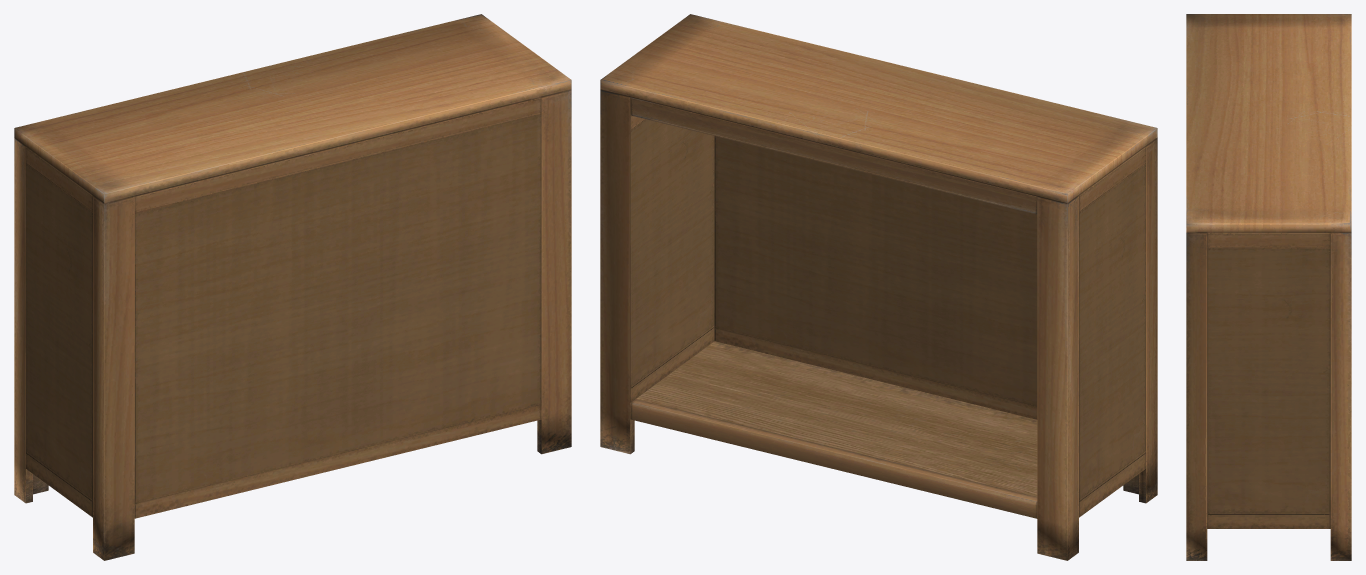
The model's file is chest_of_drawers_medium.dae.
3 views of the same model, side by side, from view 1: azimuth 30°, elevation 25°; view 2: azimuth 150°, elevation 25°; view 3: azimuth 270°, elevation 25° (orthographic). The views are drawn at different scales.
Visible parts, largest first — view 1: chest_of_drawers_medium; view 2: chest_of_drawers_medium; view 3: chest_of_drawers_medium.
Boxes of the visible parts, <box> form: chest_of_drawers_medium: <box>14,14,571,560</box>; chest_of_drawers_medium: <box>600,14,1157,560</box>; chest_of_drawers_medium: <box>1186,14,1351,560</box>.
Size of the model in its own units: 1.2 by 0.9001 by 0.4004.
